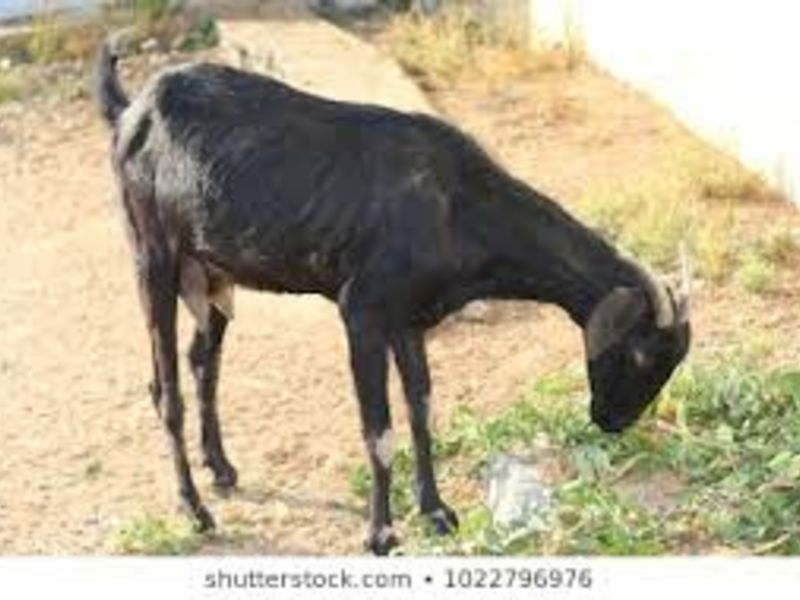goat: (95, 35, 702, 555)
